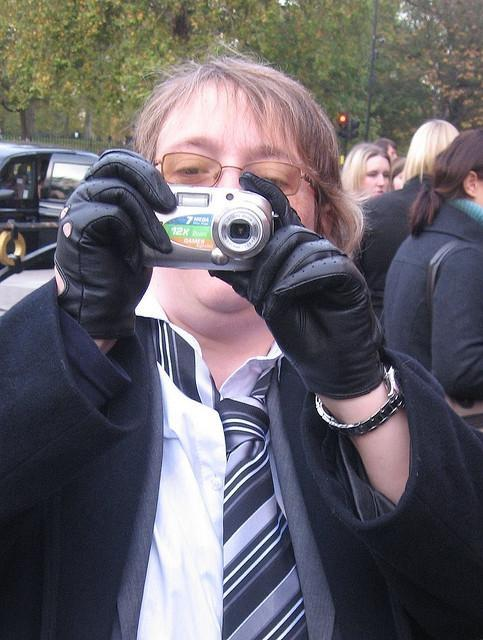car: (0, 143, 100, 270)
